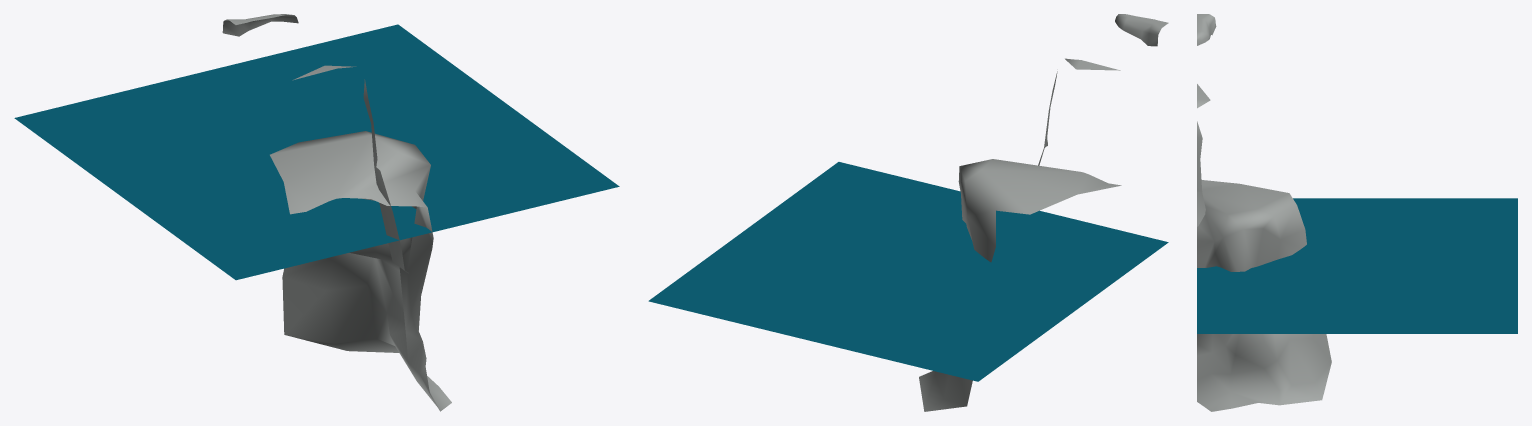
3 renders of one model, left to right at view 1: azimuth 30°, elevation 25°; view 2: azimuth 150°, elevation 25°; view 3: azimuth 270°, elevation 25°, orthographic. The views are drawn at different scales.
Parts seen in each view (by area): view 1: G:\FFXIV-MapTools\exports\s1f3\bg\ffxiv\sea_s1\fld\s1f3\bgpl (×3); view 2: G:\FFXIV-MapTools\exports\s1f3\bg\ffxiv\sea_s1\fld\s1f3\bgpl (×3); view 3: G:\FFXIV-MapTools\exports\s1f3\bg\ffxiv\sea_s1\fld\s1f3\bgpl (×2).
Boxes of the visible parts, x1=… form: G:\FFXIV-MapTools\exports\s1f3\bg\ffxiv\sea_s1\fld\s1f3\bgpl (×3): x1=14, y1=15, x2=619, y2=411; G:\FFXIV-MapTools\exports\s1f3\bg\ffxiv\sea_s1\fld\s1f3\bgpl (×3): x1=648, y1=14, x2=1168, y2=411; G:\FFXIV-MapTools\exports\s1f3\bg\ffxiv\sea_s1\fld\s1f3\bgpl (×2): x1=1197, y1=84, x2=1517, y2=411.
Bounding box in the file's own units: 128 × 140 × 128.
